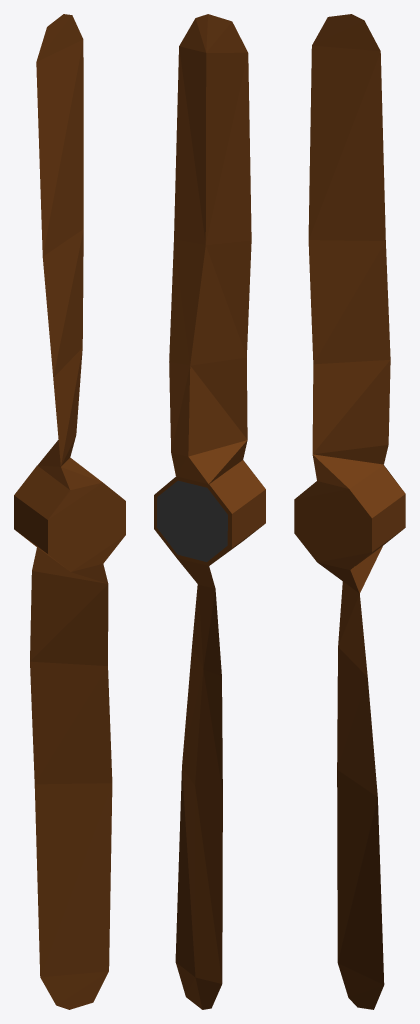
Rendered from Prop_Dr1.obj.
The picture shows the model from 3 angles, left to right: view 1: azimuth 30°, elevation 25°; view 2: azimuth 150°, elevation 25°; view 3: azimuth 330°, elevation 25°; orthographic projection.
Parts seen in each view (by area): view 1: ShapeIndexedFaceSet.024_ShapeIndexedFaceSet.025; view 2: ShapeIndexedFaceSet.024_ShapeIndexedFaceSet.025, ShapeIndexedFaceSet.023_ShapeIndexedFaceSet.024; view 3: ShapeIndexedFaceSet.024_ShapeIndexedFaceSet.025.
Boxes of the visible parts, box(x1,y1,x2,y2) form: ShapeIndexedFaceSet.024_ShapeIndexedFaceSet.025: box(14, 14, 125, 1009); ShapeIndexedFaceSet.024_ShapeIndexedFaceSet.025: box(154, 14, 265, 1009); ShapeIndexedFaceSet.023_ShapeIndexedFaceSet.024: box(156, 480, 227, 561); ShapeIndexedFaceSet.024_ShapeIndexedFaceSet.025: box(294, 14, 405, 1009).
Bounding box in the file's own units: 2.04 × 24.89 × 1.56.
